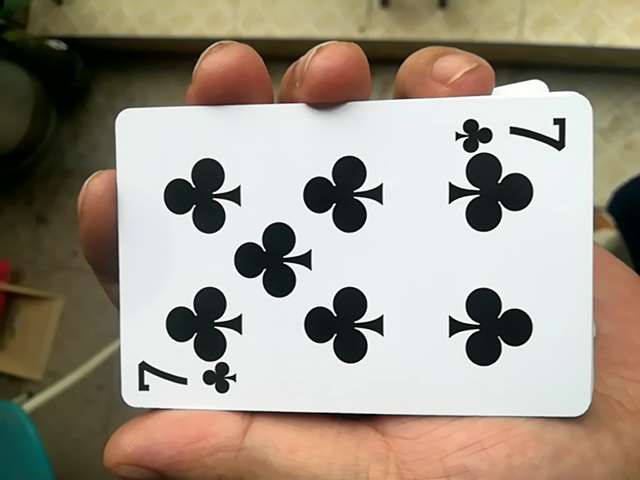mh 7: (97, 97, 584, 427)
